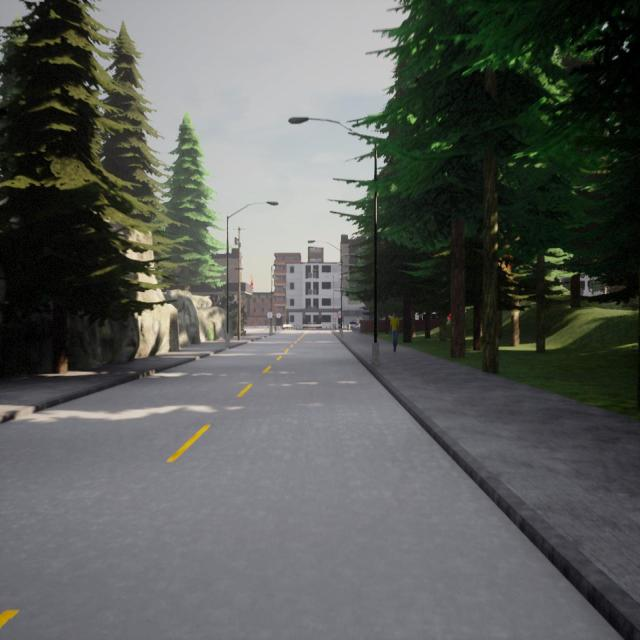Pedestrian: (389, 312, 399, 351)
Traffic_Signs: (267, 311, 273, 319), (276, 313, 281, 319), (338, 311, 342, 318), (334, 312, 336, 318)
Vehicle: (348, 319, 360, 326)
